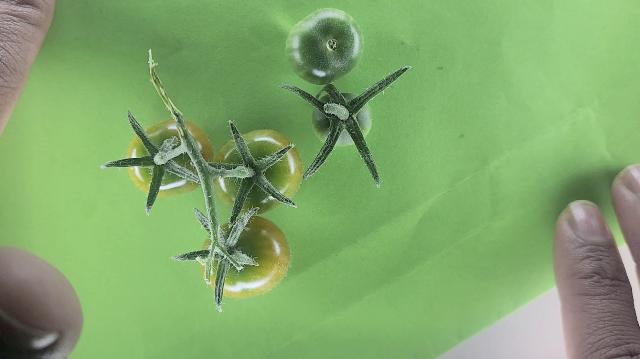Fruit Maturation: (283, 7, 364, 84), (311, 90, 373, 147)
Fully Grown: (212, 129, 302, 216), (199, 214, 291, 299), (123, 118, 215, 199)
